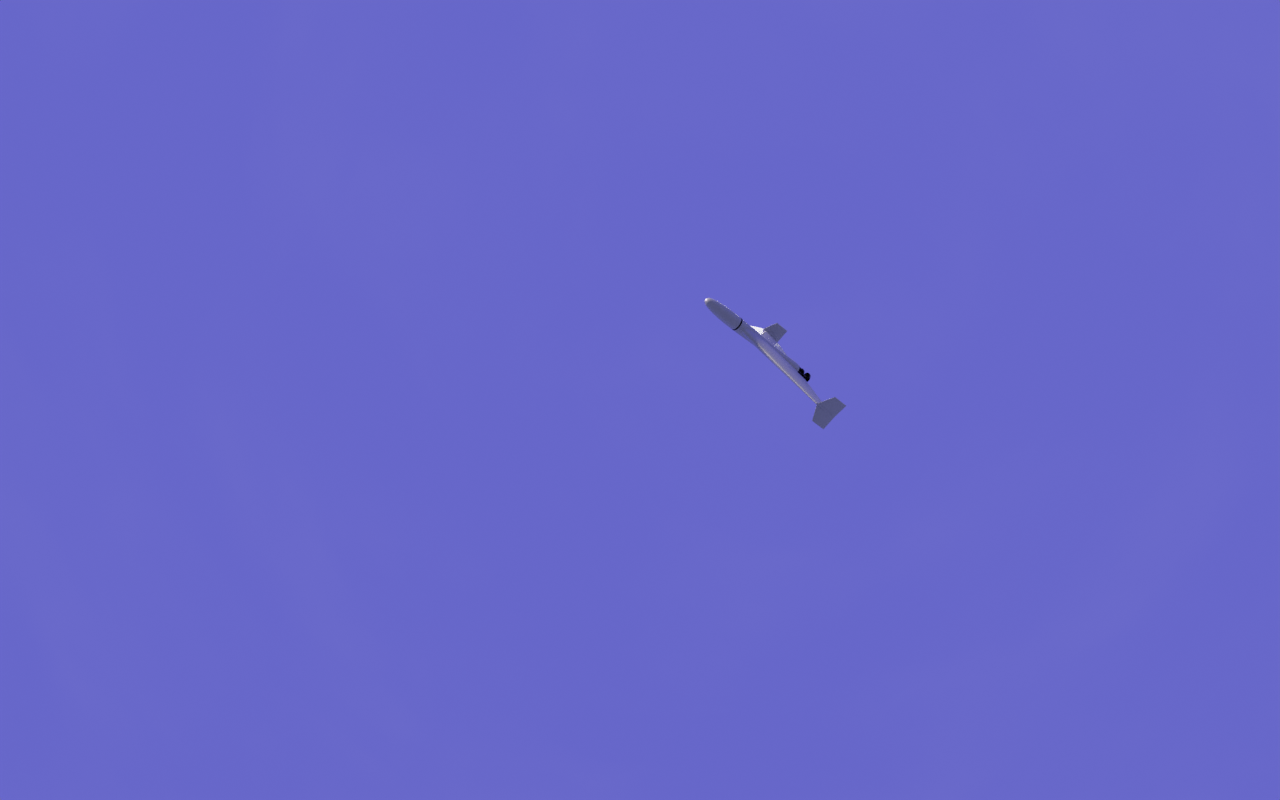shahed: (704, 298, 848, 431)
